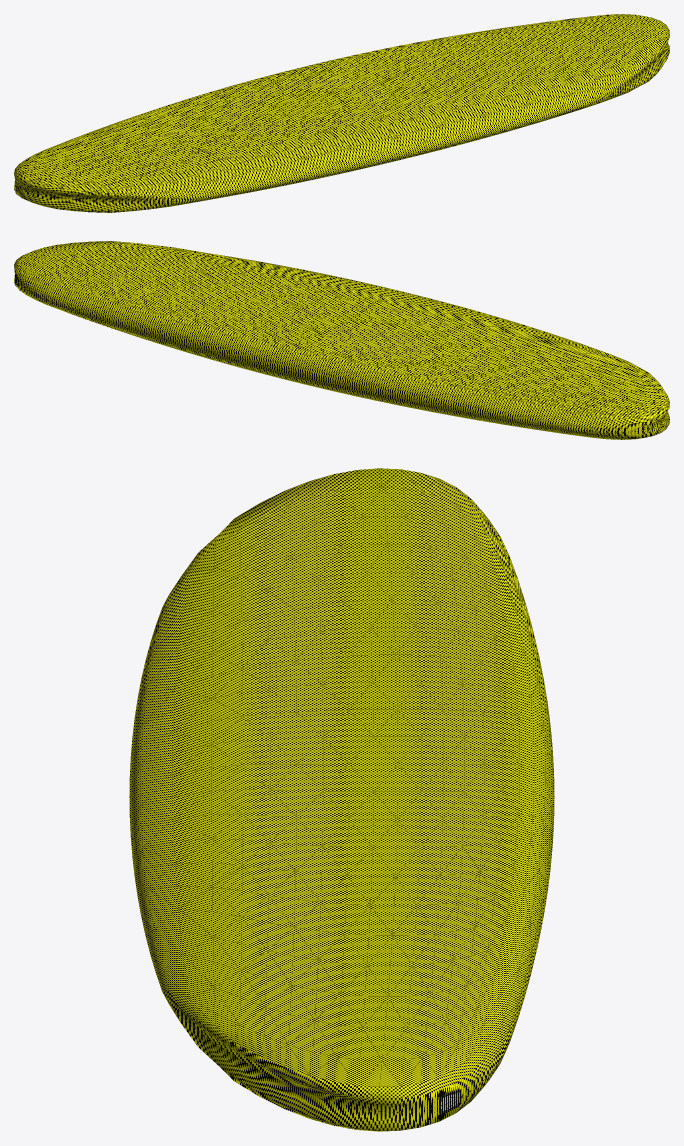
File: mouette_jaune.obj
The picture shows the model from 3 angles, top to bottom: view 1: azimuth 30°, elevation 25°; view 2: azimuth 150°, elevation 25°; view 3: azimuth 270°, elevation 25°; orthographic projection. The views are drawn at different scales.
Visible parts, largest first — view 1: aile_gauche, aile_droite, Box001; view 2: aile_gauche, aile_droite, Box001; view 3: aile_droite, aile_gauche, Box001.
Part boxes in pixels (box(x1,y1,x2,y2)): aile_gauche: box(14, 85, 343, 212); aile_droite: box(379, 14, 669, 142); Box001: box(233, 50, 466, 173); aile_gauche: box(373, 308, 669, 439); aile_droite: box(14, 241, 337, 365); Box001: box(228, 277, 464, 400); aile_droite: box(132, 838, 550, 1131); aile_gauche: box(132, 468, 550, 736); Box001: box(129, 682, 554, 866).
Bounding box in the file's own units: 368 × 17.99 × 105.
Materials: 1 (1 with a texture image).
